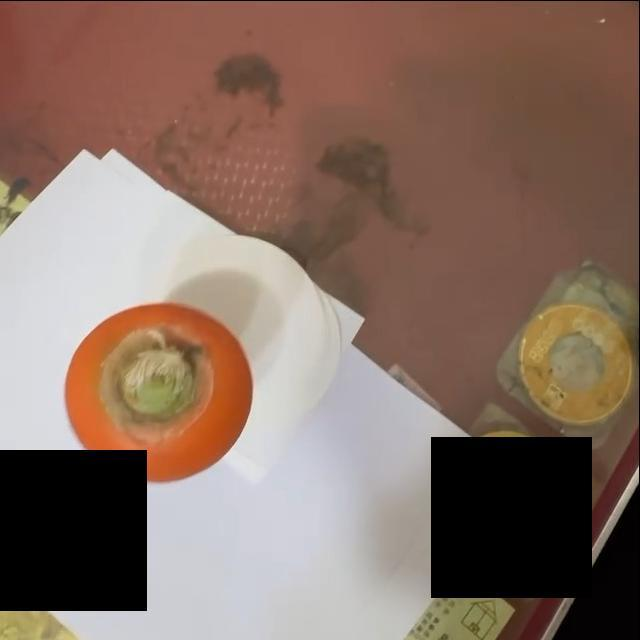carrot: (64, 299, 255, 485)
